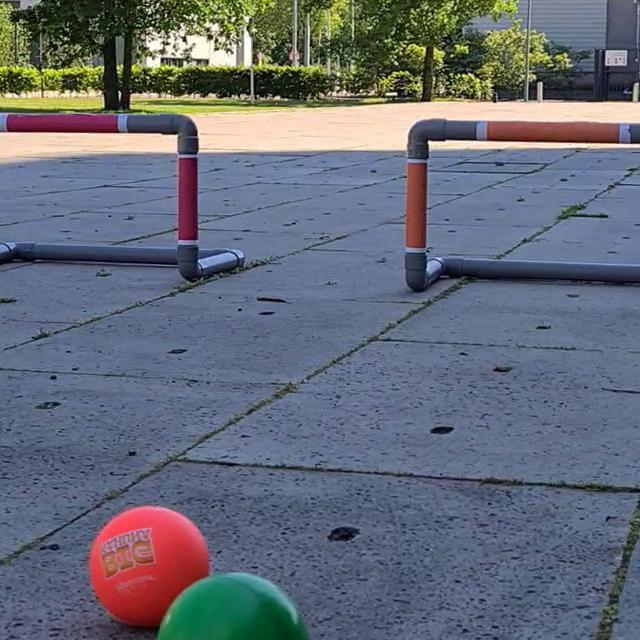ball: (155, 571, 314, 640)
